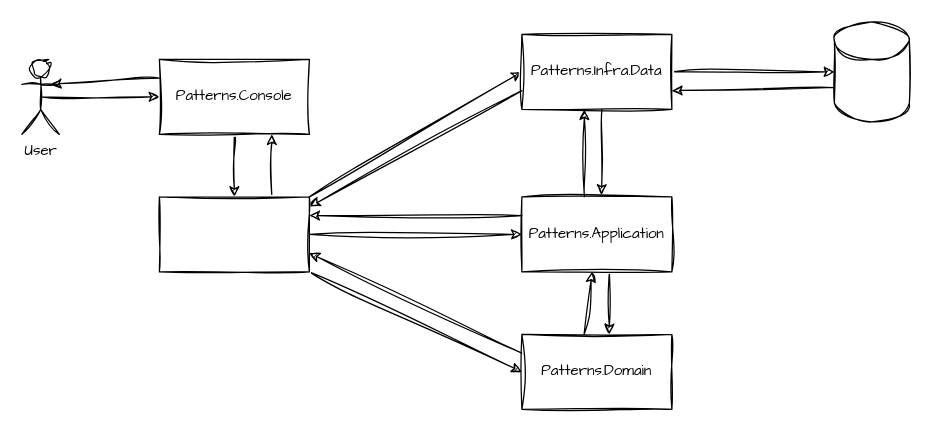
This 931x431 diagram has some shape labels left out. The box of each missing label's shape, as (x1, y1, x2, y2) in pixels:
DB: (833, 21, 909, 122)
Patterns.Infra.Ioc: (158, 196, 309, 272)
